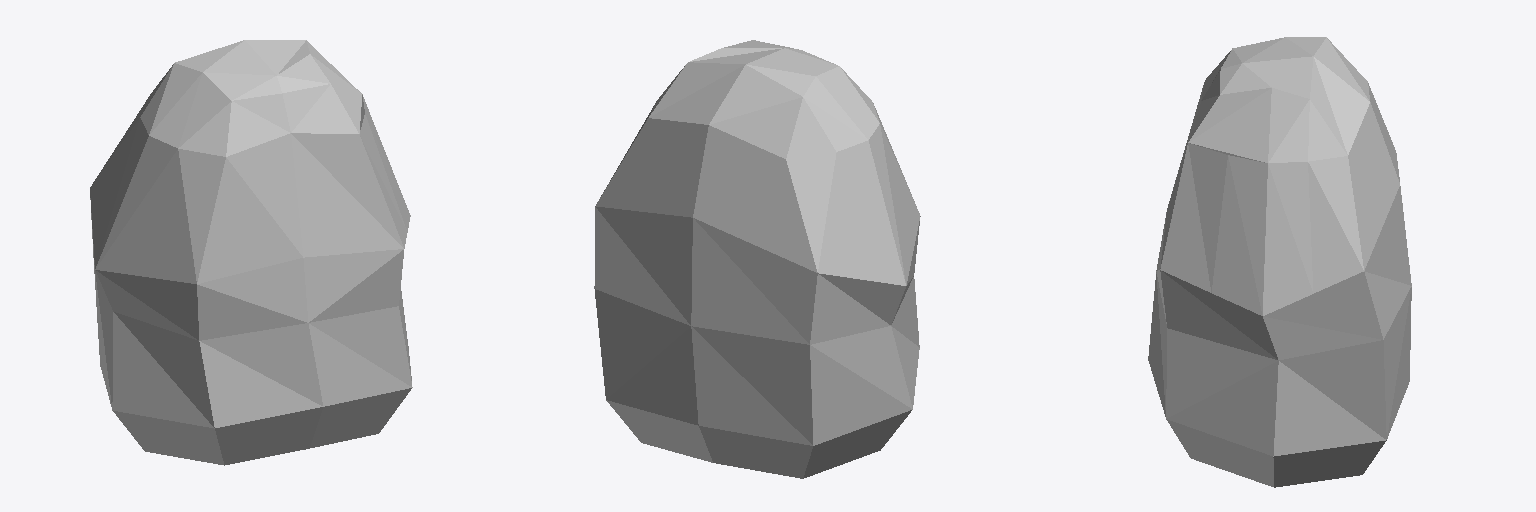
File: shirt top.obj
3 renders of one model, left to right at view 1: azimuth 30°, elevation 25°; view 2: azimuth 150°, elevation 25°; view 3: azimuth 270°, elevation 25°, orthographic.
Parts seen in each view (by area): view 1: model459.015; view 2: model459.015; view 3: model459.015.
Part boxes in pixels (left/top/right/bottom): model459.015: left=90, top=40, right=412, bottom=465; model459.015: left=594, top=40, right=920, bottom=478; model459.015: left=1148, top=37, right=1411, bottom=487.
Size of the model in its own units: 2.31 by 2.99 by 1.77.